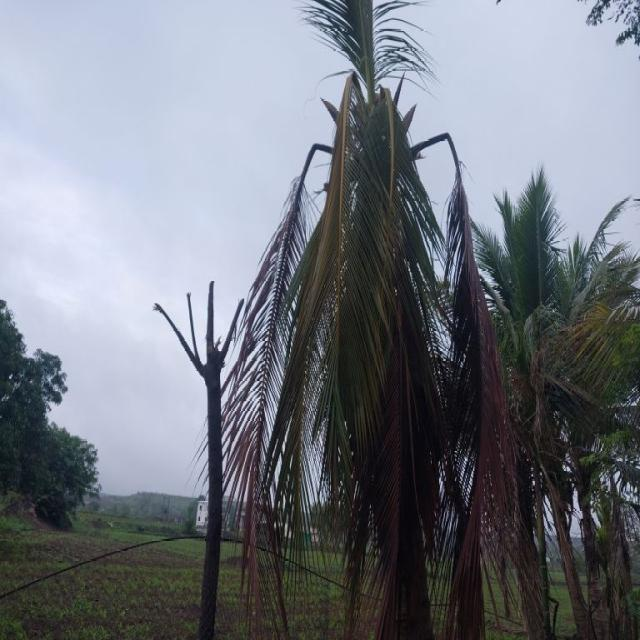bud root dropping: (225, 0, 509, 638)
